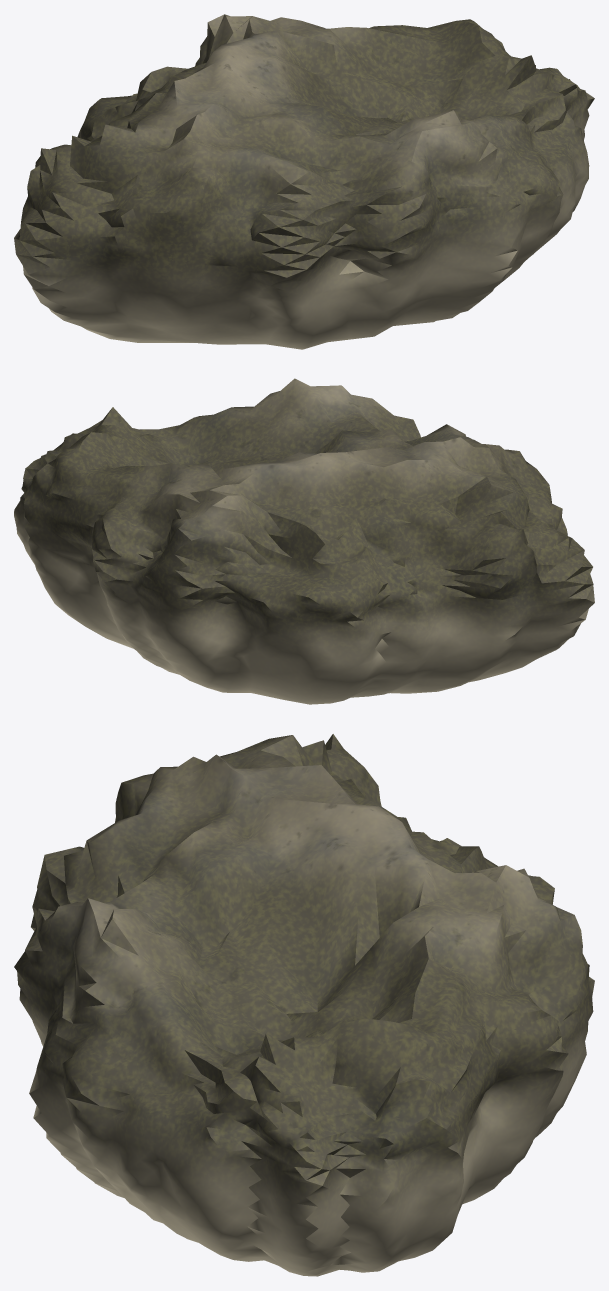
Rendered from ReefRock_B.gltf.
The picture shows the model from 3 angles, top to bottom: view 1: azimuth 30°, elevation 25°; view 2: azimuth 150°, elevation 25°; view 3: azimuth 270°, elevation 25°; orthographic projection. The views are drawn at different scales.
Visible parts, largest first — view 1: ReefRock_B; view 2: ReefRock_B; view 3: ReefRock_B.
Part boxes in pixels (<box>): ReefRock_B: <box>14,14,594,349</box>; ReefRock_B: <box>14,378,594,704</box>; ReefRock_B: <box>14,734,594,1276</box>.
Bounding box in the file's own units: 2.45 × 1.01 × 1.59.
Materials: 1 (1 with a texture image).
